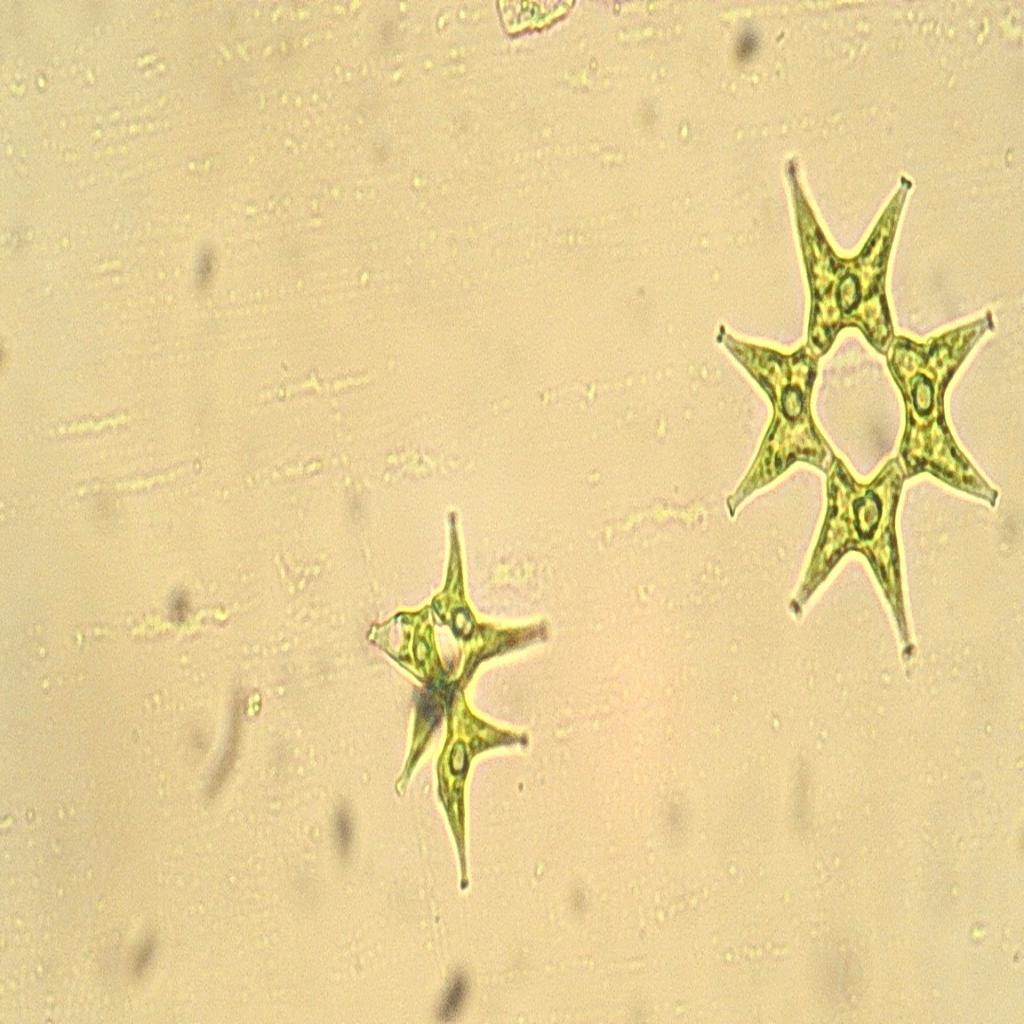Pediastrum_CO: (676, 130, 1004, 668)
